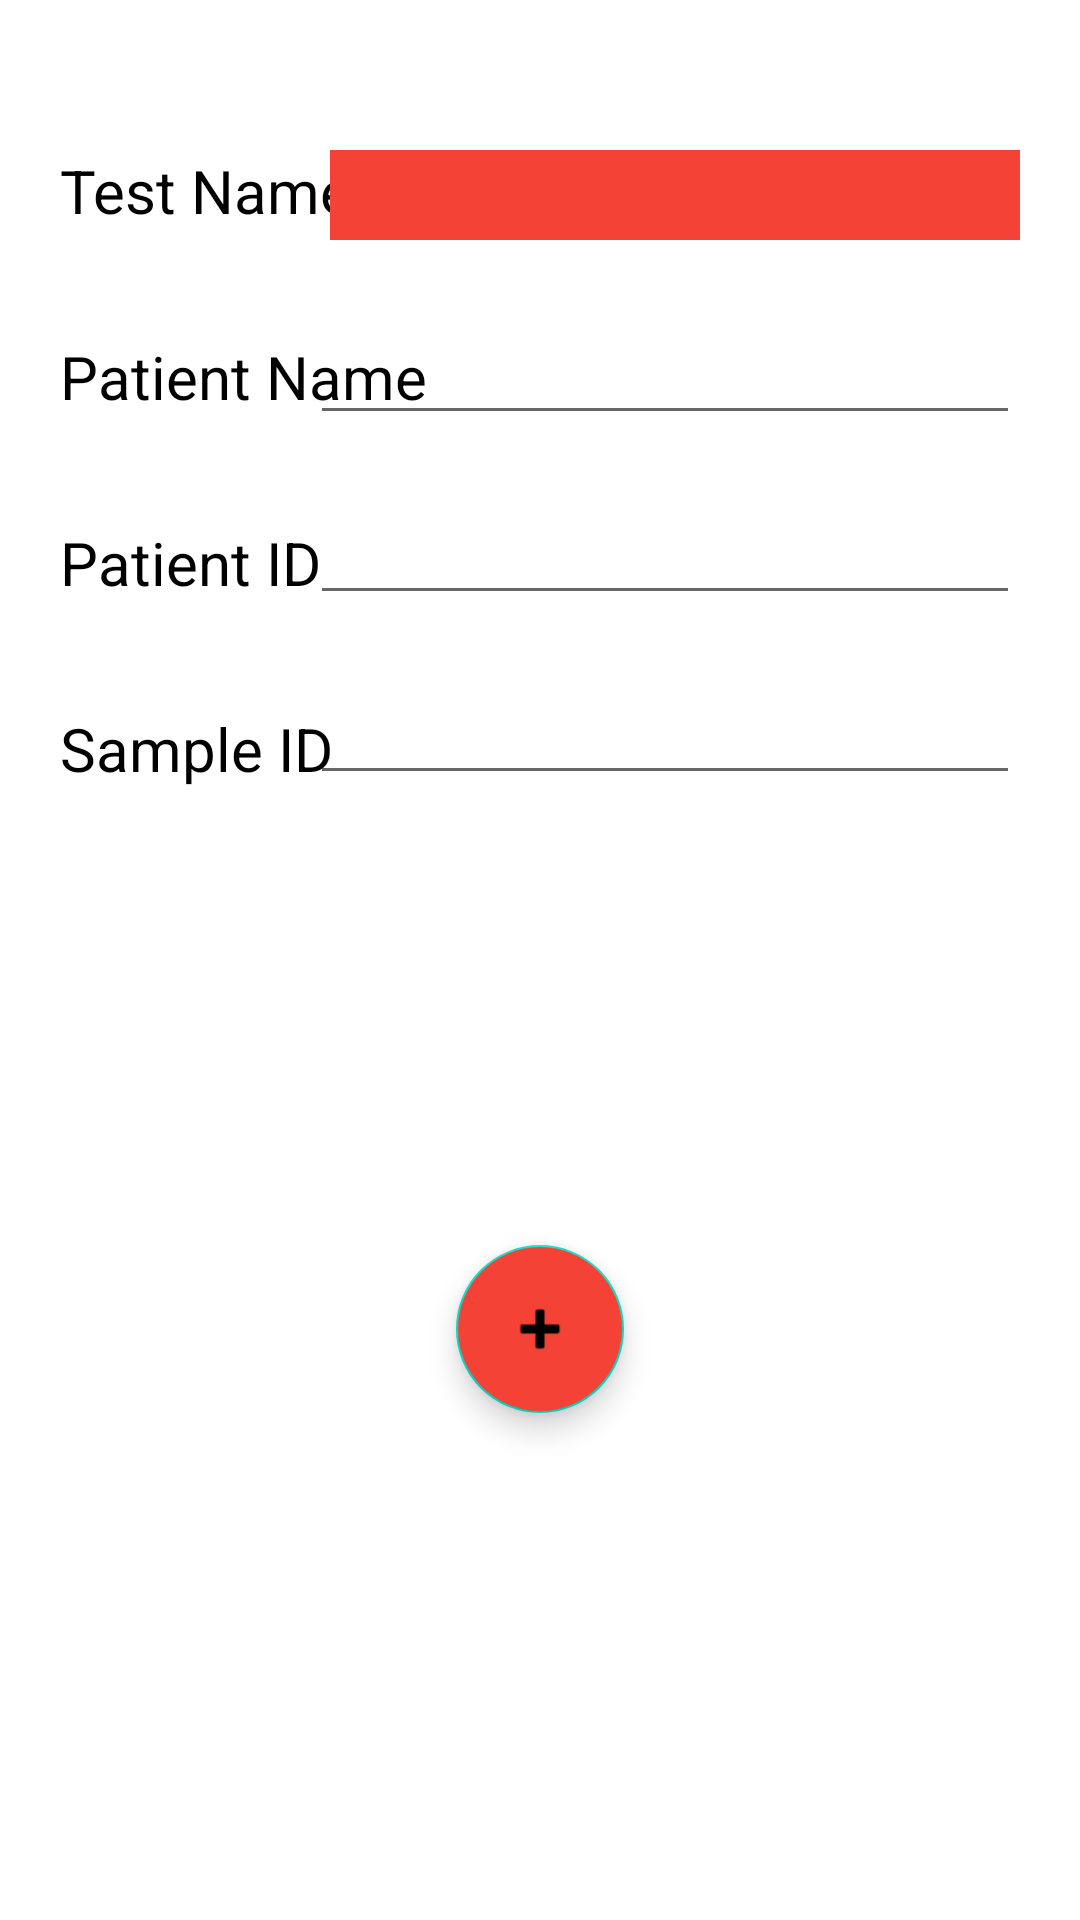

Named icons in this screenshot (1080×1920) and their centers, [x,y]:
add: [540,1329]
